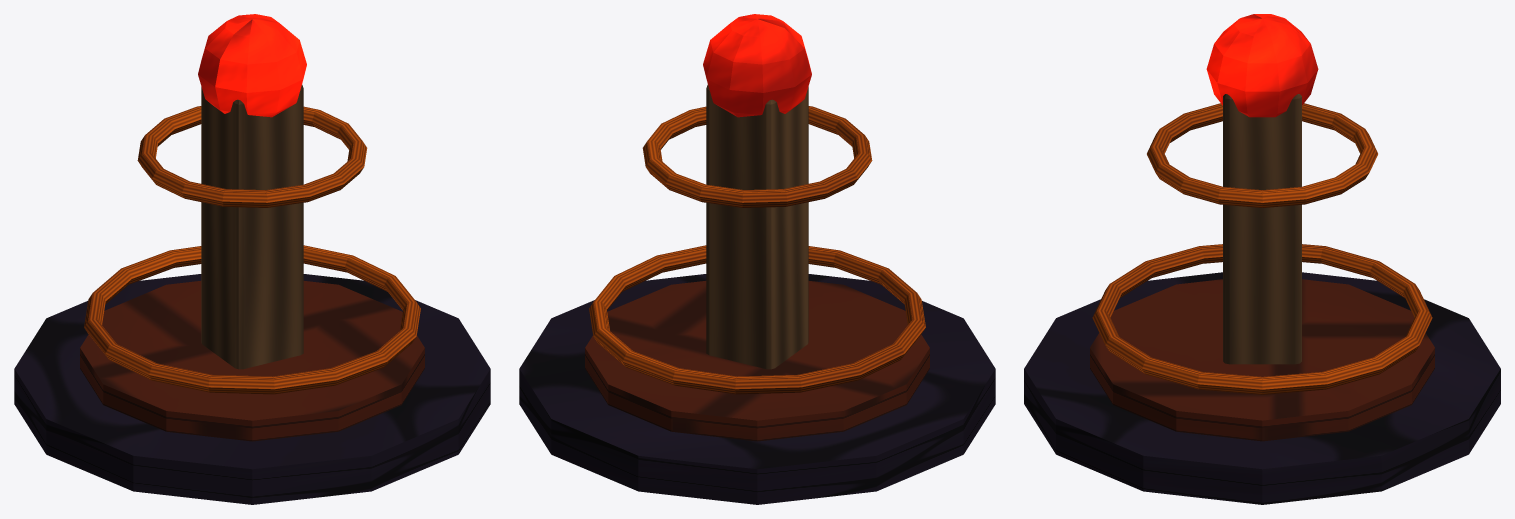
The model's file is SM_FC_AbsorbShrine.fbx.
3 views of the same model, side by side, from view 1: azimuth 30°, elevation 25°; view 2: azimuth 150°, elevation 25°; view 3: azimuth 270°, elevation 25° (orthographic).
Visible parts, largest first — view 1: SM_FC_AbsorbShrine; view 2: SM_FC_AbsorbShrine; view 3: SM_FC_AbsorbShrine.
Part boxes in pixels (bbox=[...]): SM_FC_AbsorbShrine: bbox=[14, 14, 490, 504]; SM_FC_AbsorbShrine: bbox=[519, 14, 995, 504]; SM_FC_AbsorbShrine: bbox=[1024, 14, 1500, 504].
Size of what is drawn, in the model's own units: 2.9 by 2.59 by 2.9.
